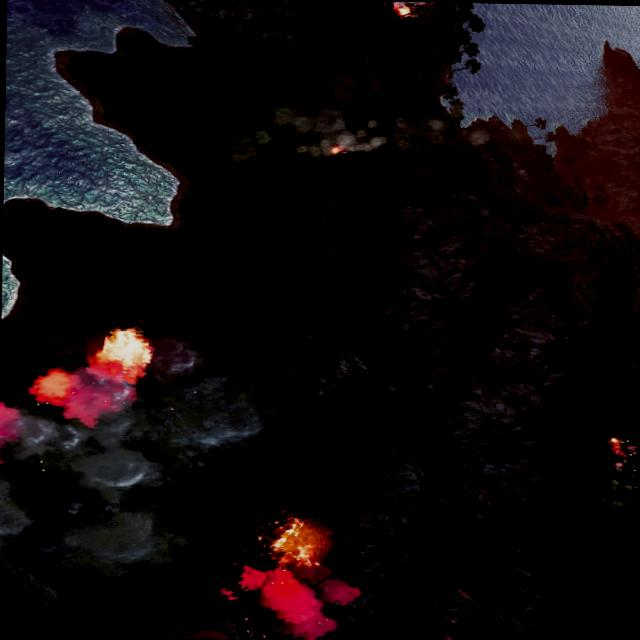fire: (26, 325, 154, 428), (266, 518, 321, 565), (604, 438, 634, 458), (391, 3, 412, 17), (328, 144, 342, 154)
smoke: (0, 335, 263, 586), (220, 75, 493, 168), (218, 566, 362, 640), (596, 458, 638, 507)
